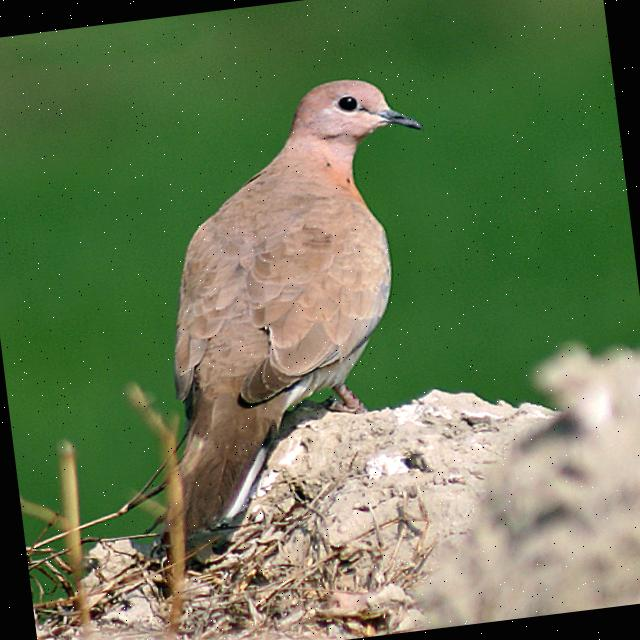dove: (70, 50, 482, 593)
